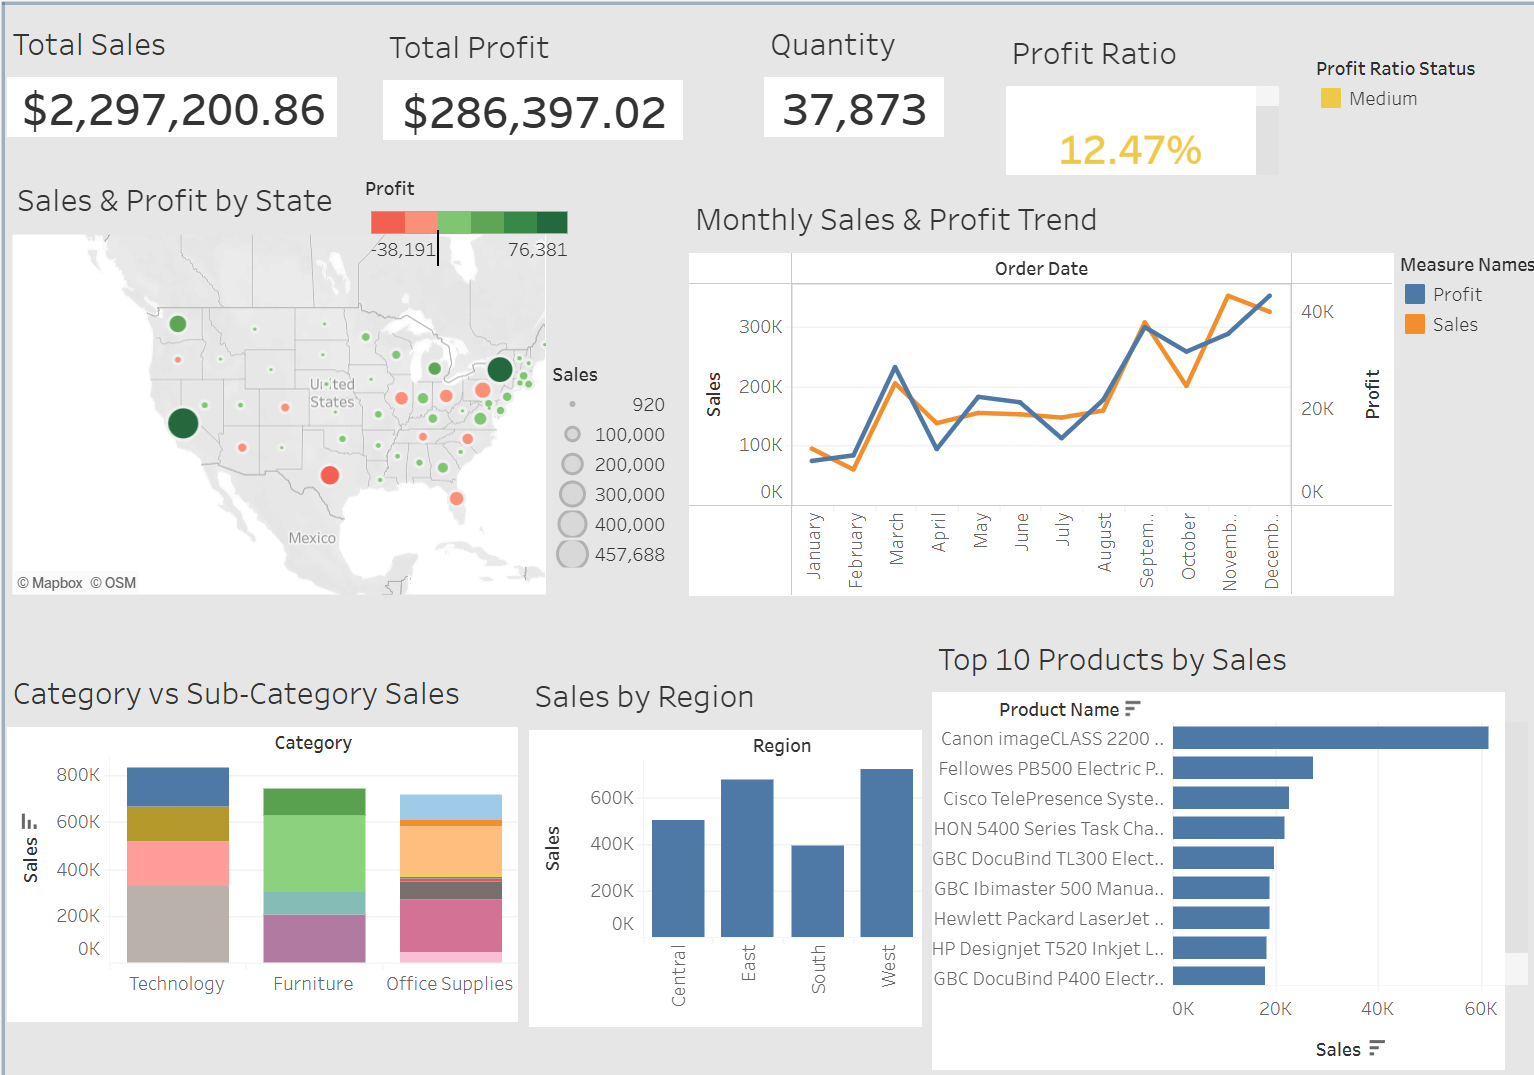

What the dashboard file says about the page in this screenshot:
{"tool":"tableau","page":{"name":"Interactive Sales Dashboard","canvas":[1024,768],"ordinal":0},"visuals":[{"type":"worksheet","title":"Sales tile","mark":"Automatic","box":[3,7,225,116]},{"type":"worksheet","title":"Quantity tile","mark":"Automatic","box":[508,7,167,109]},{"type":"worksheet","title":"Profit tile","mark":"Automatic","box":[254,9,310,114]},{"type":"worksheet","title":"Profit Ratio","mark":"Text","box":[669,13,185,102]},{"type":"legend","title":"Profit Ratio","param":"[federated.1eavtpi0kci5ya15rah2p0zjquu9].[usr:Calculation_1055582907170864:nk]","box":[876,35,140,39]},{"type":"worksheet","title":"Map Visualization","mark":"Automatic","box":[6,111,357,285]},{"type":"legend","title":"Map Visualization","param":"[federated.1eavtpi0kci5ya15rah2p0zjquu9].[sum:Profit:qk]","box":[242,115,140,80]},{"type":"worksheet","title":"Sales & Profit trends","mark":"Automatic","rows":["Sales","Profit"],"cols":["Order Date"],"box":[458,124,470,272]},{"type":"legend","title":"Map Visualization","param":"[federated.1eavtpi0kci5ya15rah2p0zjquu9].[sum:Sales:qk]","box":[367,239,140,139]},{"type":"worksheet","title":"Top 10 Products by Sales","mark":"Automatic","rows":["Product Name"],"cols":["Sales"],"box":[620,417,400,295]},{"type":"worksheet","title":"Category vs Sub-Category Sales","mark":"Bar","rows":["Sales"],"cols":["Category"],"box":[3,440,341,240]},{"type":"worksheet","title":"Sales by Region","mark":"Bar","rows":["Sales"],"cols":["Region"],"box":[351,442,262,241]}]}

Visuals, with their boxes on the page's 1024x768 design canvas (x1, y1, x2, y2). These are canvas units, not pixel positions in the 1534x1075 screenshot, which may show the page scaled, cropped or inside an application window:
"Sales tile" worksheet: bbox(3, 7, 228, 123)
"Quantity tile" worksheet: bbox(508, 7, 675, 116)
"Profit tile" worksheet: bbox(254, 9, 564, 123)
"Profit Ratio" worksheet (Text marks): bbox(669, 13, 854, 115)
"Profit Ratio" legend: bbox(876, 35, 1016, 74)
"Map Visualization" worksheet: bbox(6, 111, 363, 396)
"Map Visualization" legend: bbox(242, 115, 382, 195)
"Sales & Profit trends" worksheet: bbox(458, 124, 928, 396)
"Map Visualization" legend: bbox(367, 239, 507, 378)
"Top 10 Products by Sales" worksheet: bbox(620, 417, 1020, 712)
"Category vs Sub-Category Sales" worksheet (Bar marks): bbox(3, 440, 344, 680)
"Sales by Region" worksheet (Bar marks): bbox(351, 442, 613, 683)
